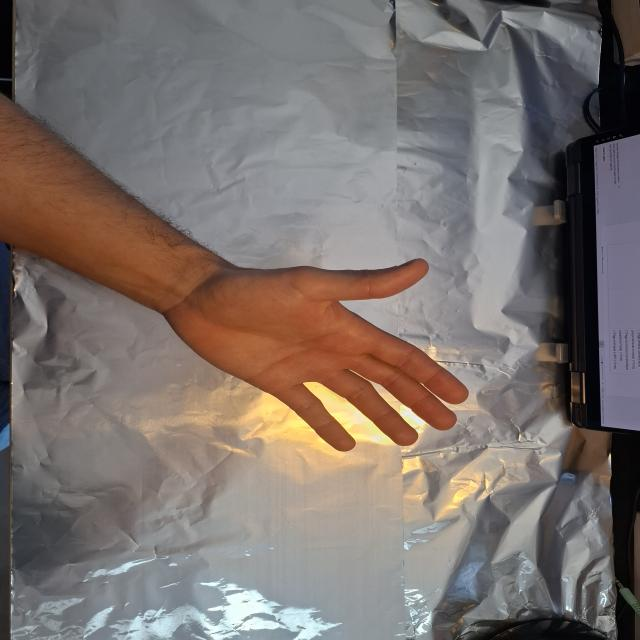glove_off: (160, 256, 472, 454)
